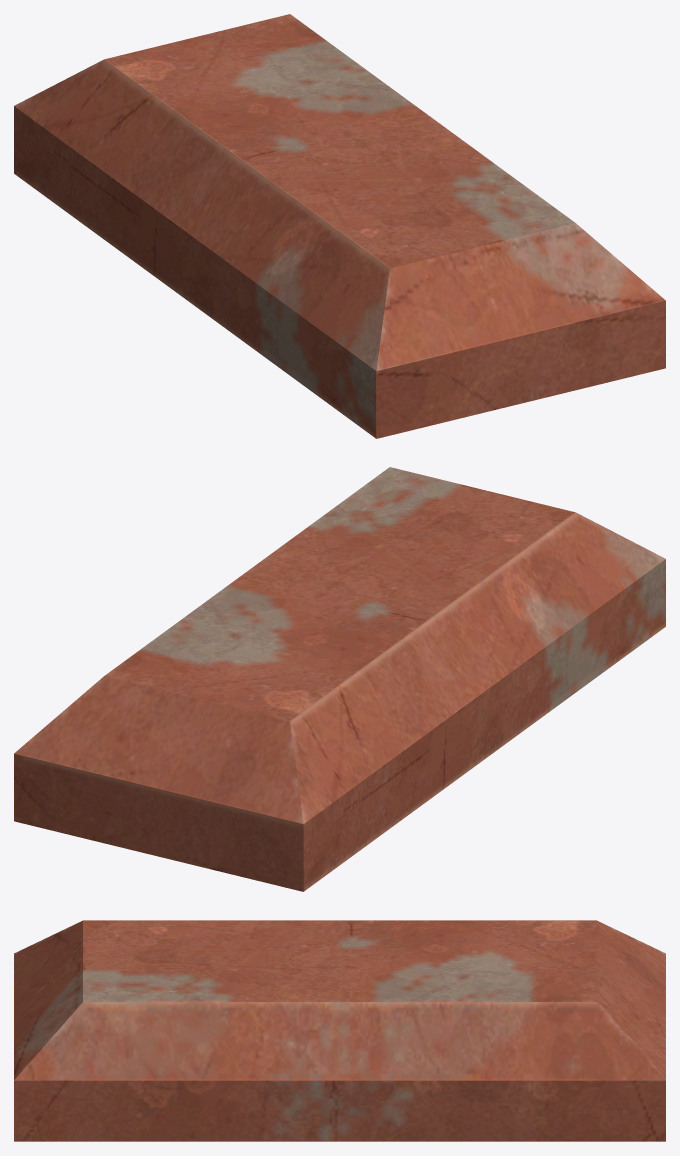
File: CopperIngot.glb
The picture shows the model from 3 angles, top to bottom: view 1: azimuth 30°, elevation 25°; view 2: azimuth 150°, elevation 25°; view 3: azimuth 270°, elevation 25°; orthographic projection. The views are drawn at different scales.
Parts seen in each view (by area): view 1: CopperIngot; view 2: CopperIngot; view 3: CopperIngot.
Part boxes in pixels (x1,y1,x2,y2): CopperIngot: (14,14,665,438); CopperIngot: (14,467,665,891); CopperIngot: (14,920,665,1141).
Bounding box in the file's own units: 0.2206 × 0.0945 × 0.4784.
Materials: 1 (1 with a texture image).
